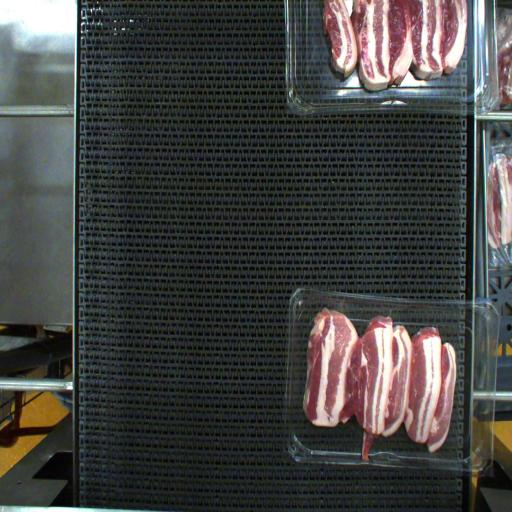packaging-error: (348, 450, 387, 489)
